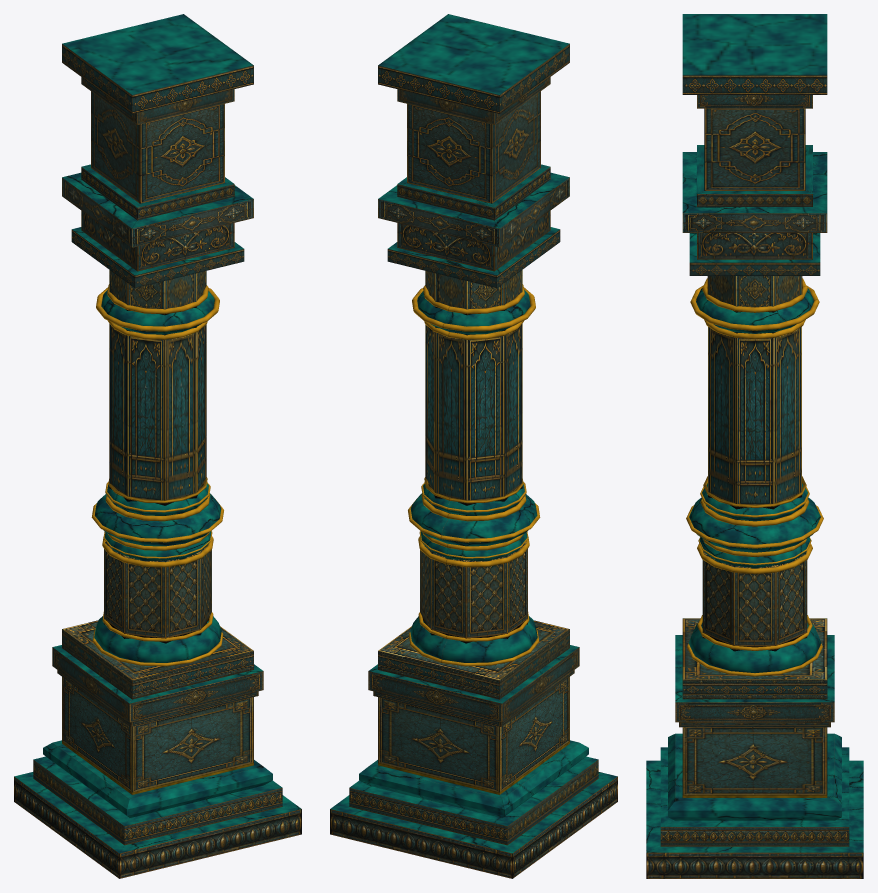
File: ARENA_BUILD.fbx
The picture shows the model from 3 angles, left to right: view 1: azimuth 30°, elevation 25°; view 2: azimuth 150°, elevation 25°; view 3: azimuth 270°, elevation 25°; orthographic projection. The views are drawn at different scales.
Parts seen in each view (by area): view 1: correct_ modeling.003; view 2: correct_ modeling.003; view 3: correct_ modeling.003.
Part boxes in pixels (<box>): correct_ modeling.003: <box>14,14,301,878</box>; correct_ modeling.003: <box>330,14,617,878</box>; correct_ modeling.003: <box>646,14,863,878</box>.
Bounding box in the file's own units: 300 × 1200 × 300.
Materials: 1 (1 with a texture image).
